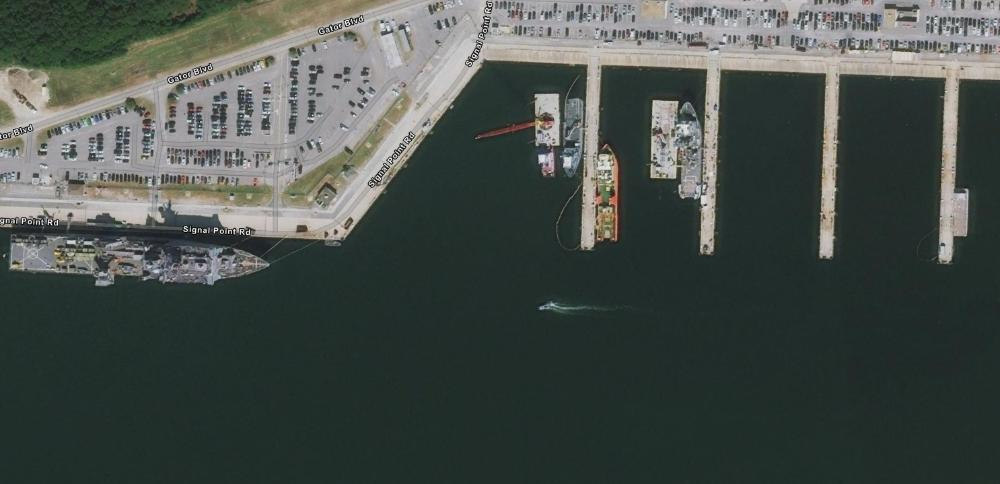amphiby: (7, 226, 283, 300)
